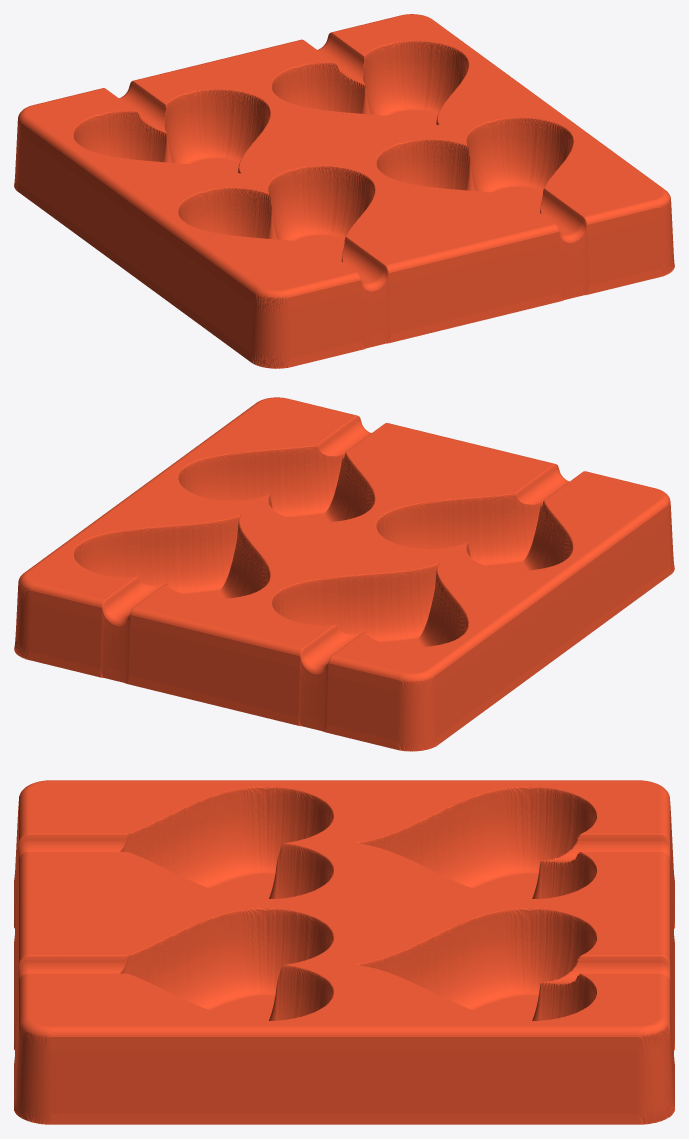
File: mold.glb
3 renders of one model, top to bottom at view 1: azimuth 30°, elevation 25°; view 2: azimuth 150°, elevation 25°; view 3: azimuth 270°, elevation 25°, orthographic. The views are drawn at different scales.
Visible parts, largest first — view 1: geometry_0; view 2: geometry_0; view 3: geometry_0.
Part boxes in pixels (<box>): geometry_0: <box>14,14,674,368</box>; geometry_0: <box>14,397,674,751</box>; geometry_0: <box>14,780,674,1124</box>.
Bounding box in the file's own units: 0.1468 × 0.0245 × 0.1592.
